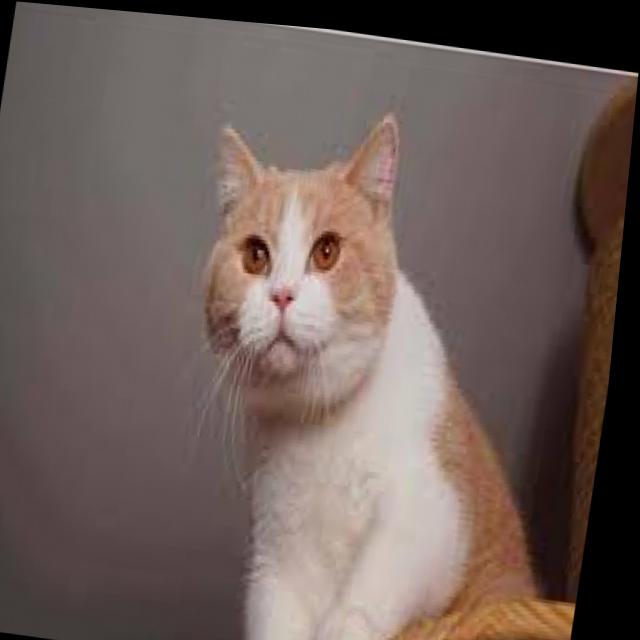cat: (151, 99, 554, 640)
